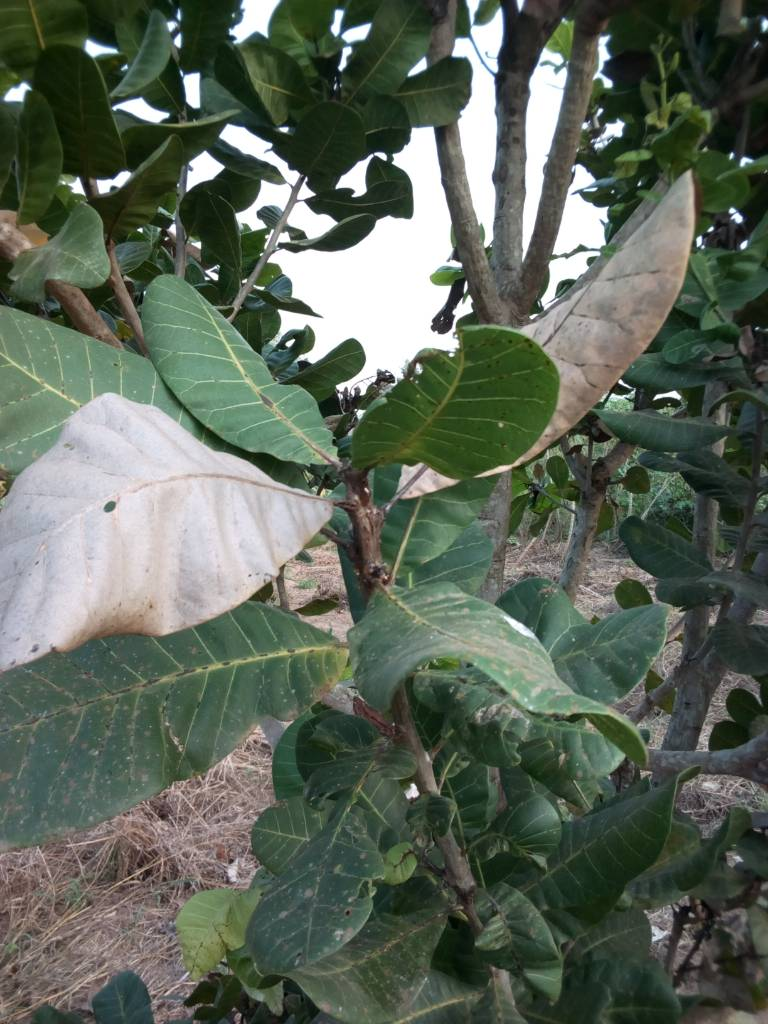Dessèchement des bourgeons: (321, 454, 384, 498)
